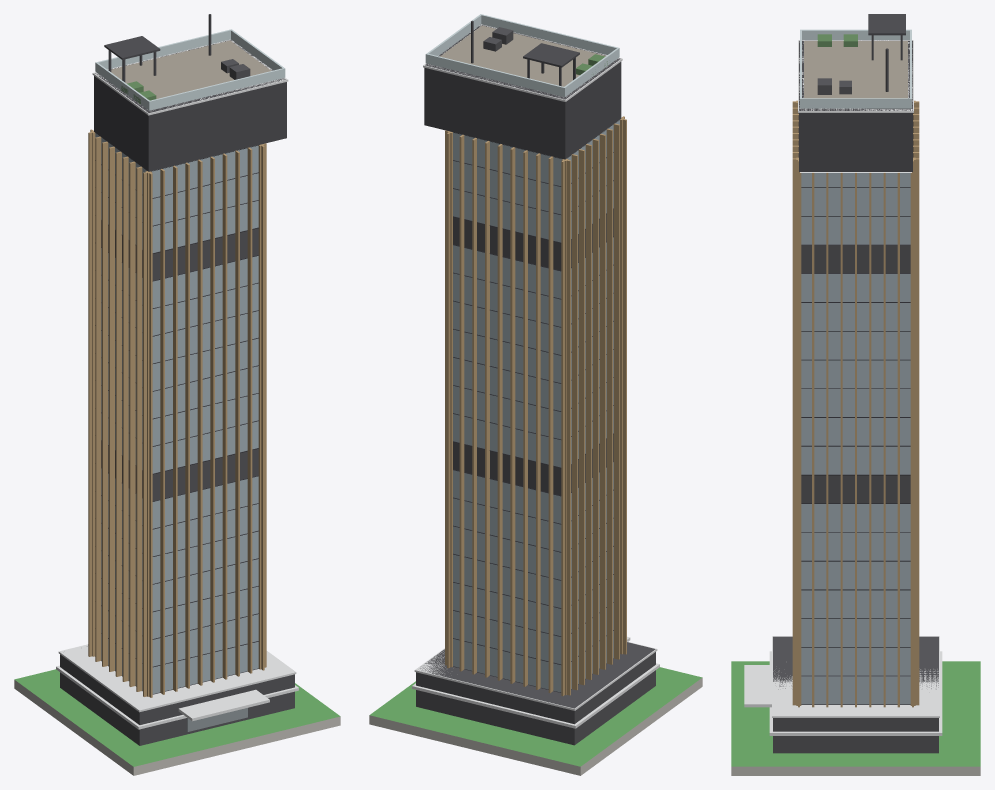
File: Modern_HighRise_3Level_Demo.glb
3 views of the same model, side by side, from view 1: azimuth 30°, elevation 25°; view 2: azimuth 150°, elevation 25°; view 3: azimuth 270°, elevation 25° (orthographic). The views are drawn at different scales.
Parts seen in each view (by area): view 1: EBuilding_Tower, EBuilding_Crown, Floor_Grass, EBuilding_Podium, EBuilding_RoofDeck, EBuilding_PodiumEdge, EBuilding_RoofGlassRail, EBuilding_Fin_022, EBuilding_Fin_024, EBuilding_Fin_034, EBuilding_Fin_026, EBuilding_Fin_028 (+24 smaller); view 2: EBuilding_Tower, EBuilding_Crown, EBuilding_Podium, Floor_Grass, EBuilding_RoofGlassRail, EBuilding_Fin_022, EBuilding_Fin_024, EBuilding_Fin_026, EBuilding_Fin_028, EBuilding_Fin_030, EBuilding_Fin_032, EBuilding_Fin_034 (+22 smaller); view 3: EBuilding_Tower, Floor_Grass, EBuilding_Crown, EBuilding_Podium, EBuilding_RoofDeck, EBuilding_PodiumEdge, EBuilding_Fin_018, EBuilding_Fin_019, EBuilding_TowerMullion, EBuilding_RoofGlassRail, EBuilding_CornerPilaster_1, EBuilding_CornerPilaster_2 (+13 smaller).
Part boxes in pixels (x1,y1,x2,y2): EBuilding_Tower: (95,133,258,693); EBuilding_Crown: (94,40,286,171); Floor_Grass: (14,669,340,775); EBuilding_Podium: (60,646,294,745); EBuilding_RoofDeck: (111,40,271,98); EBuilding_PodiumEdge: (58,644,296,712); EBuilding_RoofGlassRail: (95,29,285,110); EBuilding_Fin_022: (136,166,142,691); EBuilding_Fin_024: (129,161,135,686); EBuilding_Fin_034: (95,136,101,661); EBuilding_Fin_026: (122,156,128,681); EBuilding_Fin_028: (115,151,121,676); EBuilding_Tower: (453,120,619,692); EBuilding_Crown: (424,25,621,159); EBuilding_Podium: (416,642,655,745); Floor_Grass: (369,667,702,775); EBuilding_RoofGlassRail: (425,14,619,97); EBuilding_Fin_022: (613,123,619,659); EBuilding_Fin_024: (606,128,612,664); EBuilding_Fin_026: (599,134,605,669); EBuilding_Fin_028: (592,139,598,674); EBuilding_Fin_030: (585,144,591,679); EBuilding_Fin_032: (578,149,584,685); EBuilding_Fin_034: (571,154,577,690); EBuilding_Tower: (801,172,910,704); Floor_Grass: (731,661,980,775); EBuilding_Crown: (799,40,912,171); EBuilding_Podium: (773,636,938,753); EBuilding_RoofDeck: (804,41,907,98); EBuilding_PodiumEdge: (772,636,939,717); EBuilding_Fin_018: (792,158,796,705); EBuilding_Fin_019: (915,158,919,705); EBuilding_TowerMullion: (798,113,913,704); EBuilding_RoofGlassRail: (800,29,911,108); EBuilding_CornerPilaster_1: (796,157,801,705); EBuilding_CornerPilaster_2: (910,157,915,705).
Size of the model in its own units: 2.4 by 7.42 by 2.4.
